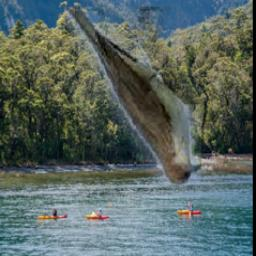Cuckoo: (64, 8, 201, 186)
